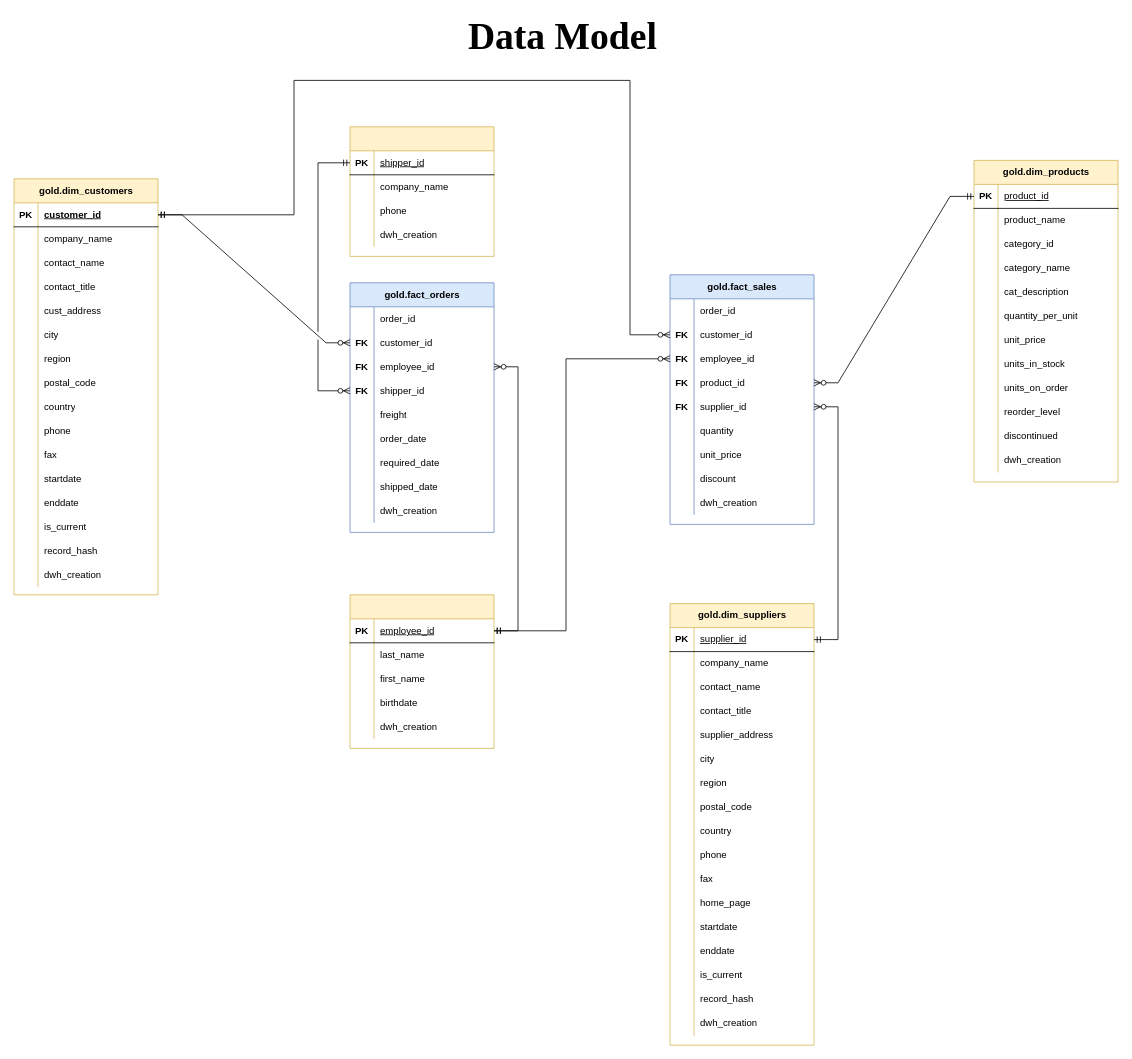
This 1132x1059 diagram has some shape labels left out. Here are the shapes that lost their labels. From the top down, the box of each, then its label:
(349, 126, 494, 256): gold.dim_shippers
(349, 594, 494, 748): gold.dim_employees
